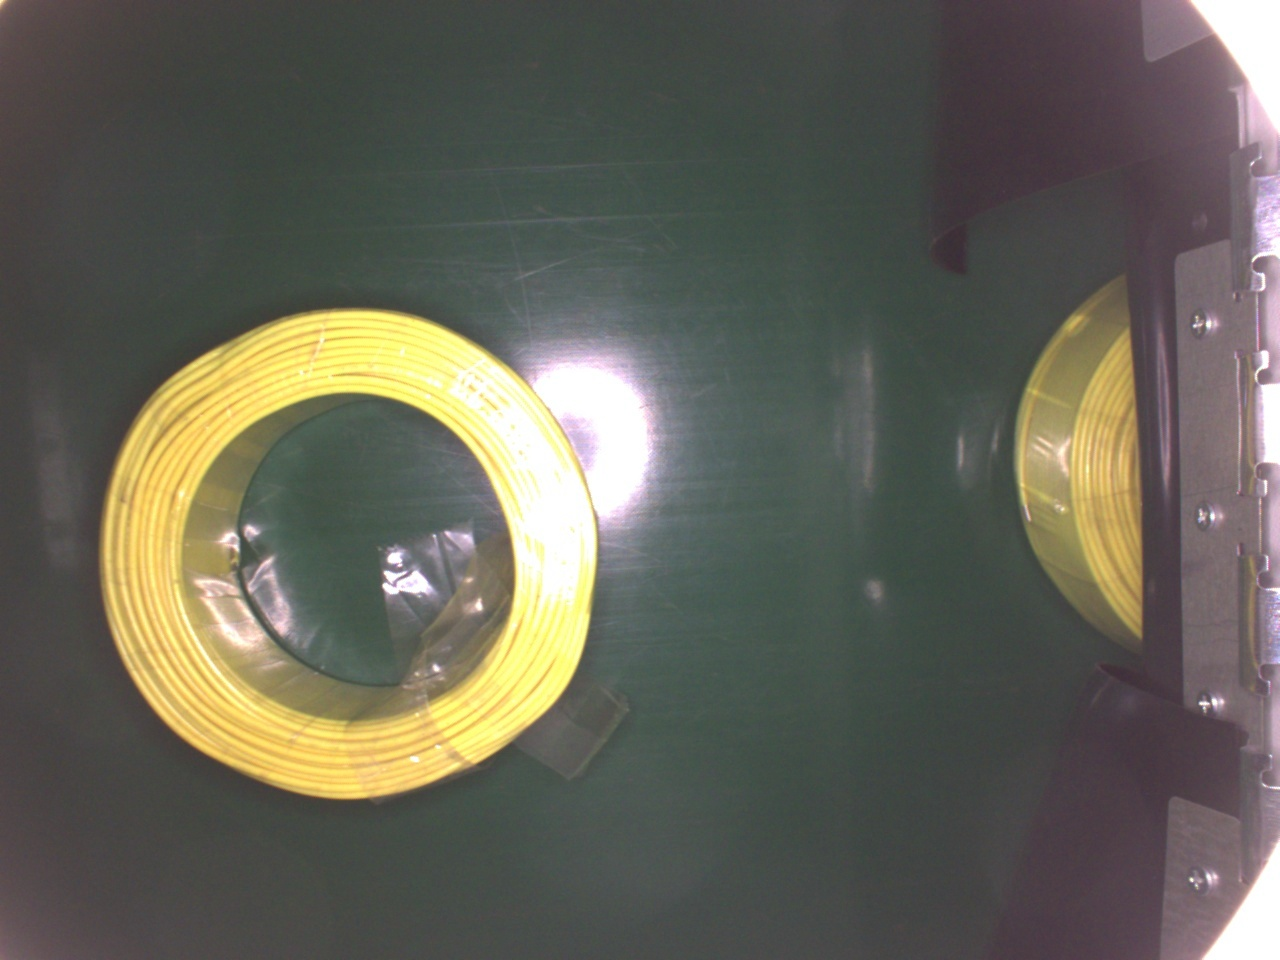yellow: (97, 306, 601, 806), (1007, 269, 1143, 656)
